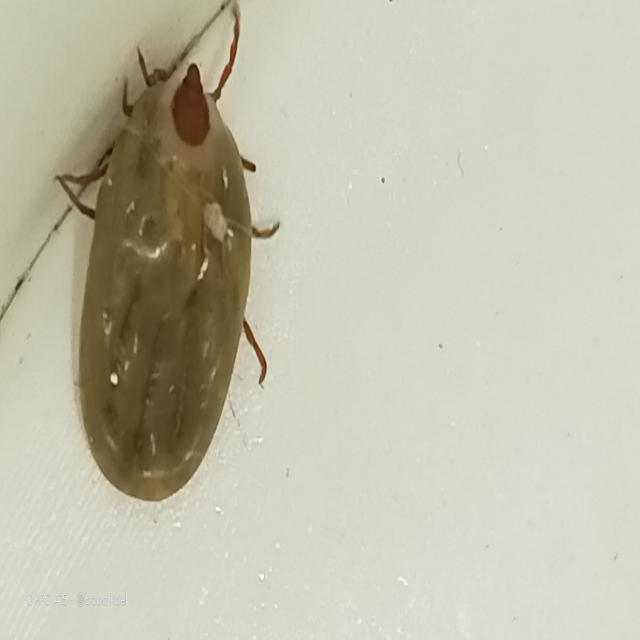Rhipicephalus Sanguineus-F-Fed: (55, 24, 279, 504)
